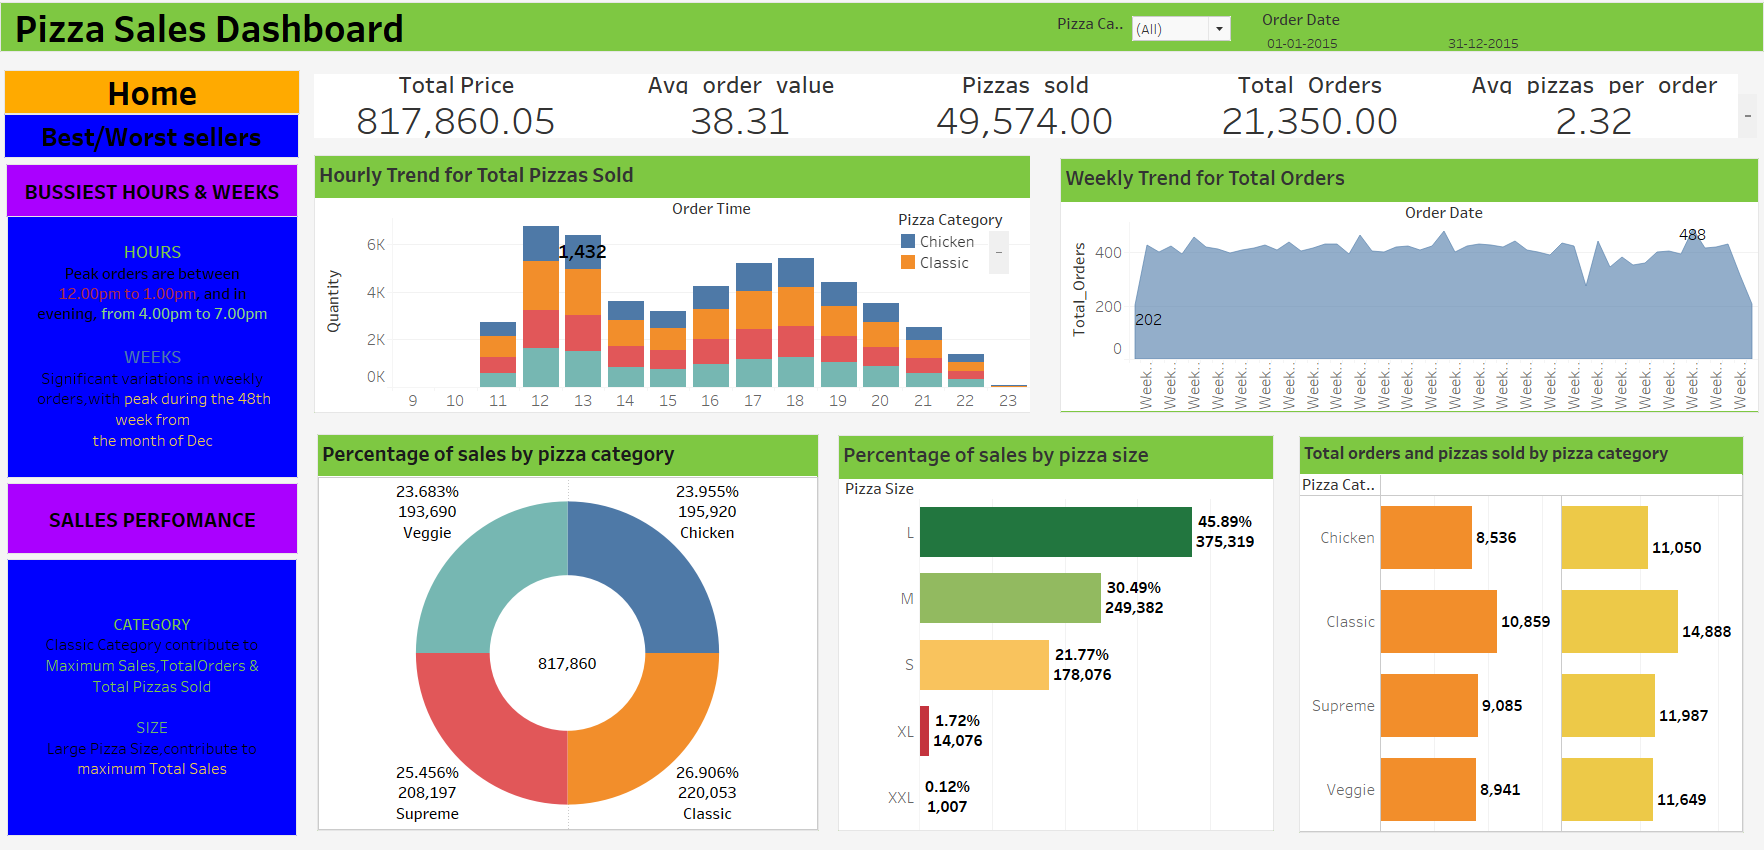

What the dashboard file says about the page in this screenshot:
{"tool":"tableau","page":{"name":"Dashboard 1 (2)","canvas":[1000,1000],"units":"permille","ordinal":1},"visuals":[{"type":"title","box":[4.9,9.5,990.2,83.2]},{"type":"filter","title":"Sheet 6","param":"[federated.0nt9rt9085ff9d1d756ez0n1yl60].[none:order_date:qk]","box":[711.1,28.5,146.6,48.8]},{"type":"filter","title":"Sheet 7","param":"[federated.0nt9rt9085ff9d1d756ez0n1yl60].[none:pizza_category:nk]","box":[597.4,33.3,98.4,44]},{"type":"text","box":[11.6,98.7,165.6,53.5]},{"type":"worksheet","title":"Sheet 5","mark":"Automatic","box":[181.4,98.7,807.6,85.6]},{"type":"text","box":[11.6,149.8,164.9,53.5]},{"type":"worksheet","title":"Sheet 7","mark":"Bar","rows":["quantity"],"cols":["order_time"],"box":[181.4,192.6,403.8,311.5]},{"type":"worksheet","title":"Sheet 6","mark":"Area","rows":["Calculation_1469580873755258883"],"cols":["order_date"],"box":[596.2,196.2,394,308]},{"type":"text","box":[13.4,209.3,162.5,61.8]},{"type":"legend","title":"Sheet 7","param":"[federated.0nt9rt9085ff9d1d756ez0n1yl60].[none:pizza_category:nk]","box":[508.9,261.6,62.9,76.1]},{"type":"text","box":[14.1,269.9,161.9,304.4]},{"type":"worksheet","title":"Sheet 8","mark":"Pie","cols":["Calculation_1469580873781227526","Calculation_1469580873781280776"],"box":[183.3,517.2,284.7,473.2]},{"type":"worksheet","title":"Sheet 9","mark":"Automatic","rows":["pizza_size"],"cols":["total_price"],"box":[472.8,518.4,248,472.1]},{"type":"worksheet","title":"Sheet 10","mark":"Automatic","rows":["pizza_category"],"cols":["Calculation_1469580873755258883","quantity"],"box":[728.8,519.6,252.9,473.2]},{"type":"text","box":[14.1,580.3,161.9,82]},{"type":"text","box":[14.1,668.2,161.3,322.2]}]}

Visuals, with their boxes on the dashboard's canvas, which has no fixed pixel size, in thousandths of its width and height (x1, y1, x2, y2). These are canvas units, not pixel positions in the 1764x850 screenshot, which may show the page scaled, cropped or inside an application window:
title: detection(5, 10, 995, 93)
"Sheet 6" filter: detection(711, 28, 858, 77)
"Sheet 7" filter: detection(597, 33, 696, 77)
text: detection(12, 99, 177, 152)
"Sheet 5" worksheet: detection(181, 99, 989, 184)
text: detection(12, 150, 176, 203)
"Sheet 7" worksheet (Bar marks): detection(181, 193, 585, 504)
"Sheet 6" worksheet (Area marks): detection(596, 196, 990, 504)
text: detection(13, 209, 176, 271)
"Sheet 7" legend: detection(509, 262, 572, 338)
text: detection(14, 270, 176, 574)
"Sheet 8" worksheet (Pie marks): detection(183, 517, 468, 990)
"Sheet 9" worksheet: detection(473, 518, 721, 990)
"Sheet 10" worksheet: detection(729, 520, 982, 993)
text: detection(14, 580, 176, 662)
text: detection(14, 668, 175, 990)
